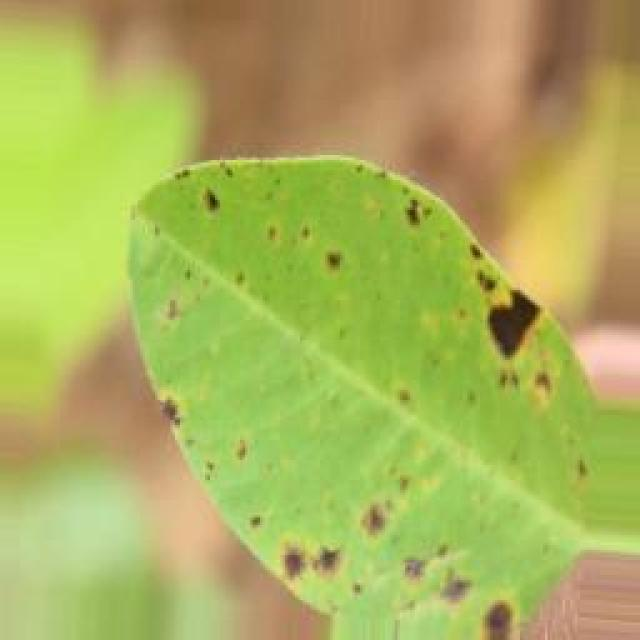Yellowish: (98, 130, 572, 634)
